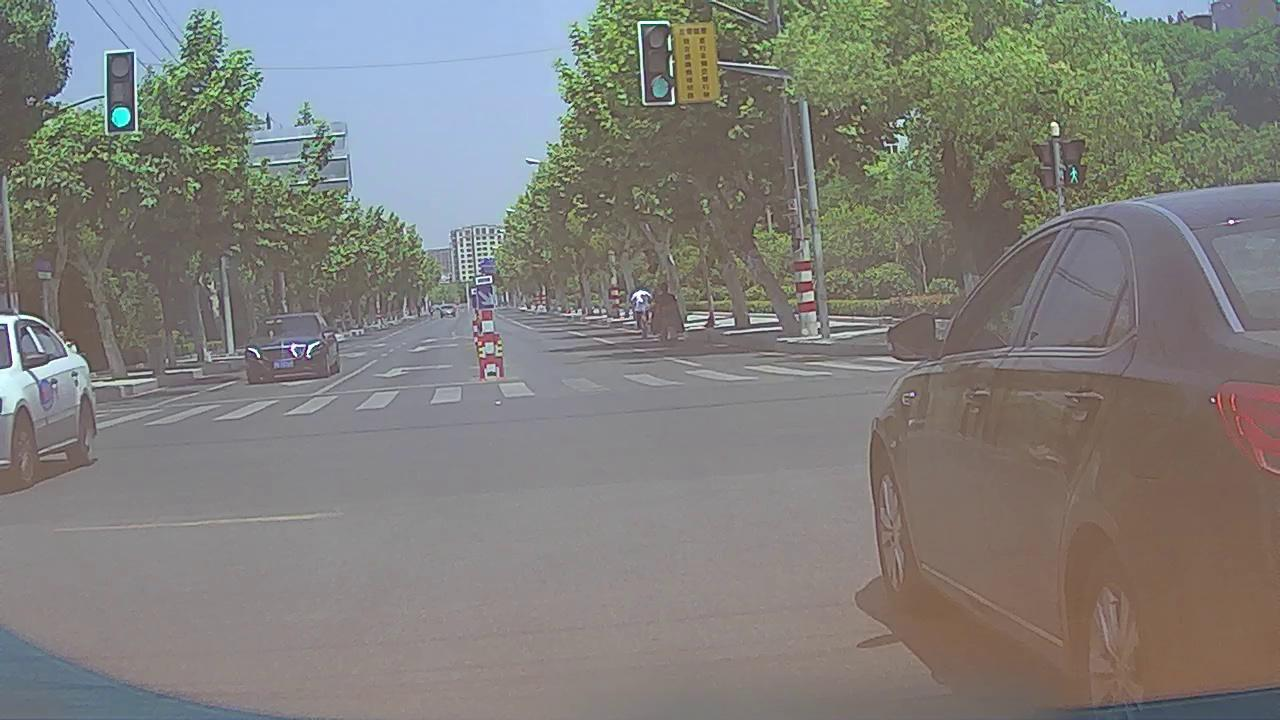traffic_light: (640, 24, 674, 103), (107, 51, 137, 133)
